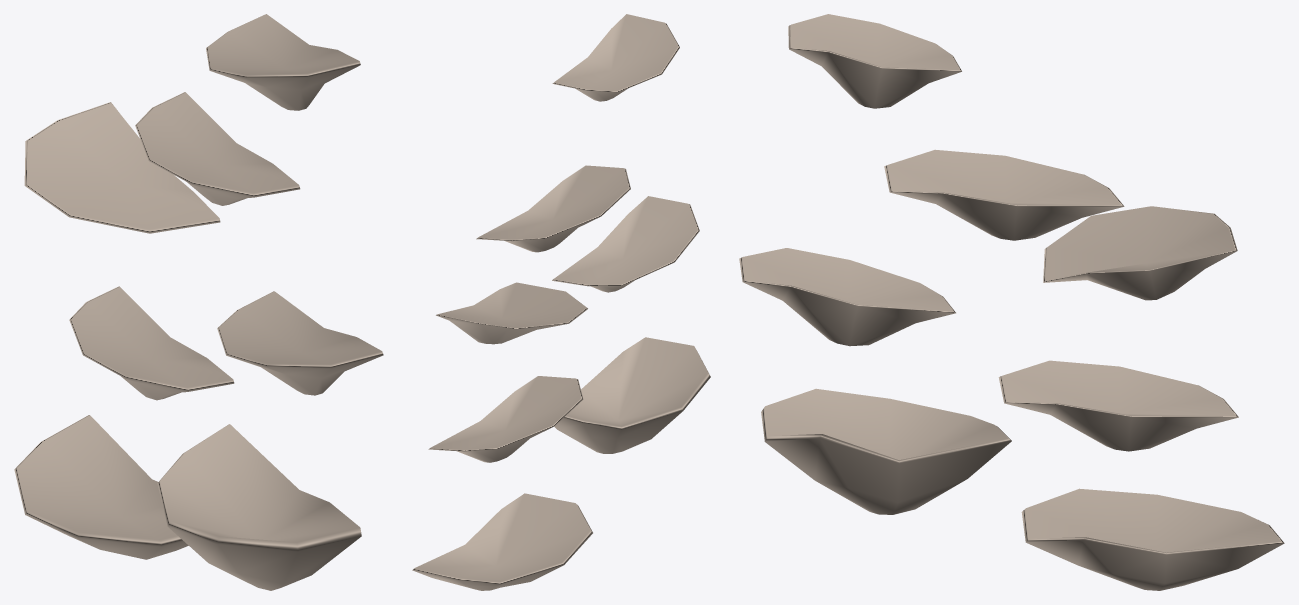
Rendered from Muschroom_Tree_02.fbx.
3 views of the same model, side by side, from view 1: azimuth 30°, elevation 25°; view 2: azimuth 150°, elevation 25°; view 3: azimuth 270°, elevation 25° (orthographic). The views are drawn at different scales.
Parts seen in each view (by area): view 1: Muschroom_Tree_02; view 2: Muschroom_Tree_02; view 3: Muschroom_Tree_02.
Part boxes in pixels (x1=…): Muschroom_Tree_02: x1=14, y1=14, x2=383, y2=590; Muschroom_Tree_02: x1=412, y1=14, x2=710, y2=590; Muschroom_Tree_02: x1=739, y1=14, x2=1284, y2=590.
Bounding box in the file's own units: 23.94 × 94.95 × 85.63.
Materials: 1 (1 with a texture image).
